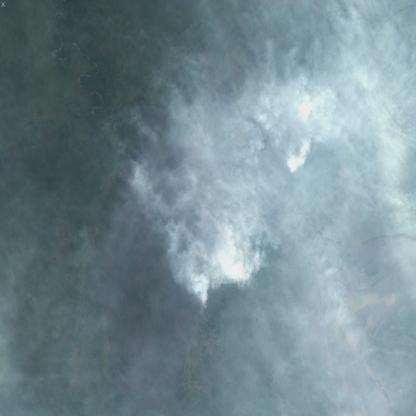fire: (281, 80, 317, 184)
